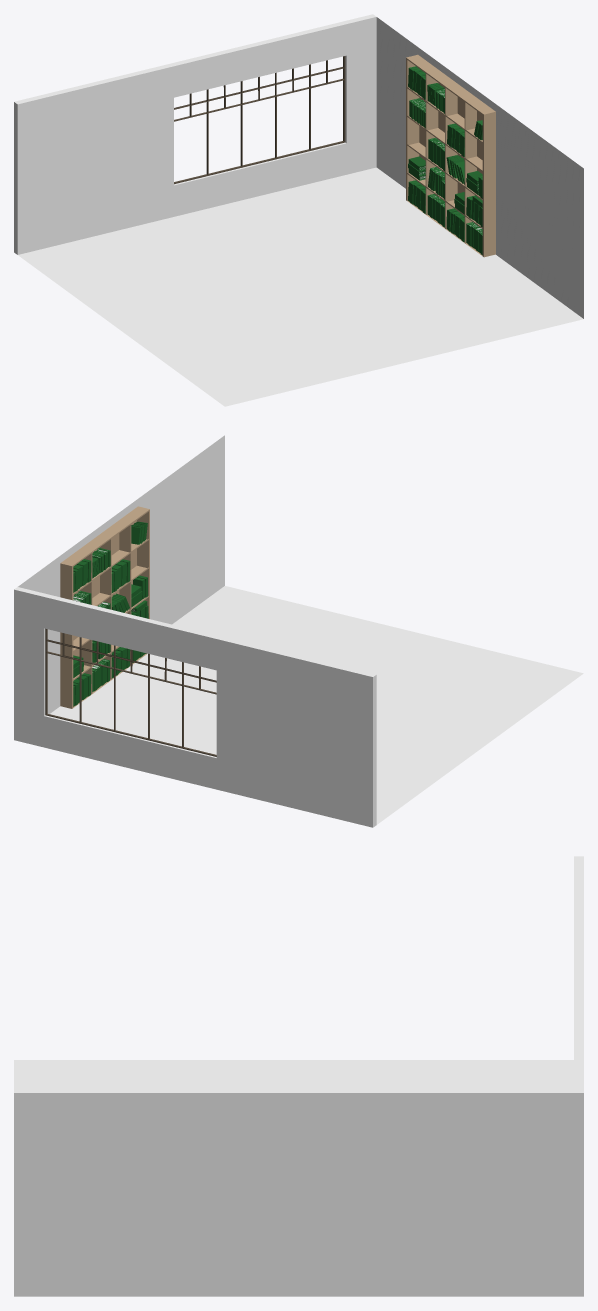
The model's file is soundscape-mornings-test.glb.
3 renders of one model, top to bottom at view 1: azimuth 30°, elevation 25°; view 2: azimuth 150°, elevation 25°; view 3: azimuth 270°, elevation 25°, orthographic. The views are drawn at different scales.
Visible parts, largest first — view 1: Cube, Bookcase Structure, Books, Cube.001; view 2: Cube, Bookcase Structure, Books, Cube.001; view 3: Cube.
Part boxes in pixels (x1,y1,x2,y2): Cube: (14,14,583,406); Bookcase Structure: (406,54,495,257); Books: (408,66,482,255); Cube.001: (174,56,345,184); Cube: (14,435,583,827); Bookcase Structure: (60,506,149,708); Books: (73,521,148,706); Cube.001: (45,628,216,756); Cube: (14,856,583,1296).
Size of the model in its own units: 60.22 by 24.14 by 61.27.
